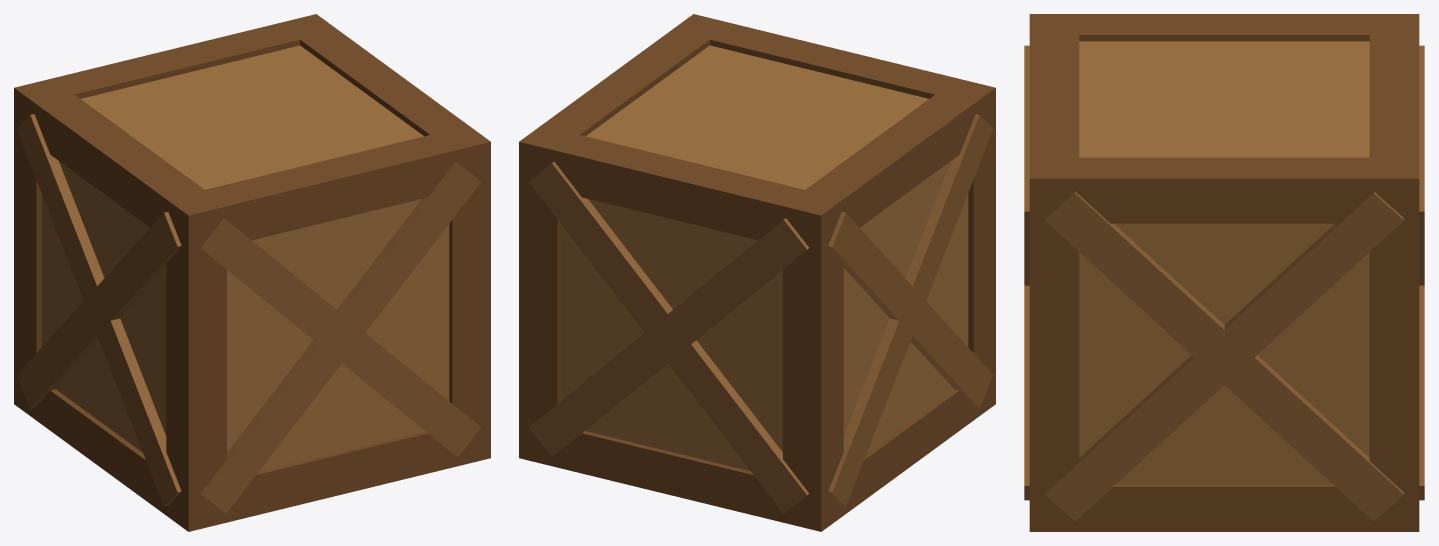
File: prop_crate.glb
The picture shows the model from 3 angles, left to right: view 1: azimuth 30°, elevation 25°; view 2: azimuth 150°, elevation 25°; view 3: azimuth 270°, elevation 25°; orthographic projection. The views are drawn at different scales.
Parts seen in each view (by area): view 1: crate; view 2: crate; view 3: crate.
Boxes of the visible parts, <box> form: crate: <box>14,14,490,531</box>; crate: <box>519,14,995,531</box>; crate: <box>1024,14,1424,531</box>.
Bounding box in the file's own units: 1.13 × 1.1 × 1.13.
